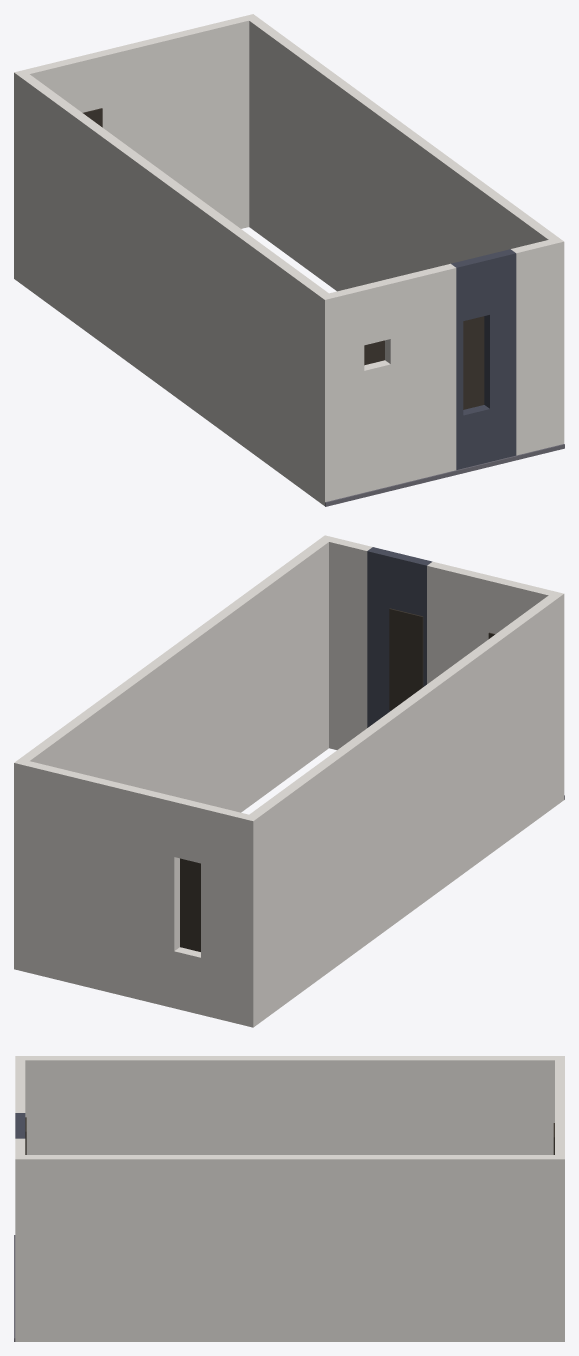
File: SM_Floor_NarrowUpperScatterHigh_White_364_Back_01.gltf
3 views of the same model, one above another, from view 1: azimuth 30°, elevation 25°; view 2: azimuth 150°, elevation 25°; view 3: azimuth 270°, elevation 25° (orthographic). The views are drawn at different scales.
Parts seen in each view (by area): view 1: SM_Floor_NarrowUpperScatterHigh_White_364_Back_01; view 2: SM_Floor_NarrowUpperScatterHigh_White_364_Back_01; view 3: SM_Floor_NarrowUpperScatterHigh_White_364_Back_01.
Boxes of the visible parts, <box> form: SM_Floor_NarrowUpperScatterHigh_White_364_Back_01: <box>14,14,564,506</box>; SM_Floor_NarrowUpperScatterHigh_White_364_Back_01: <box>14,535,564,1027</box>; SM_Floor_NarrowUpperScatterHigh_White_364_Back_01: <box>14,1056,564,1341</box>.
Size of the model in its own units: 3.64 by 3 by 8.21.
1 material, 1 textured.
